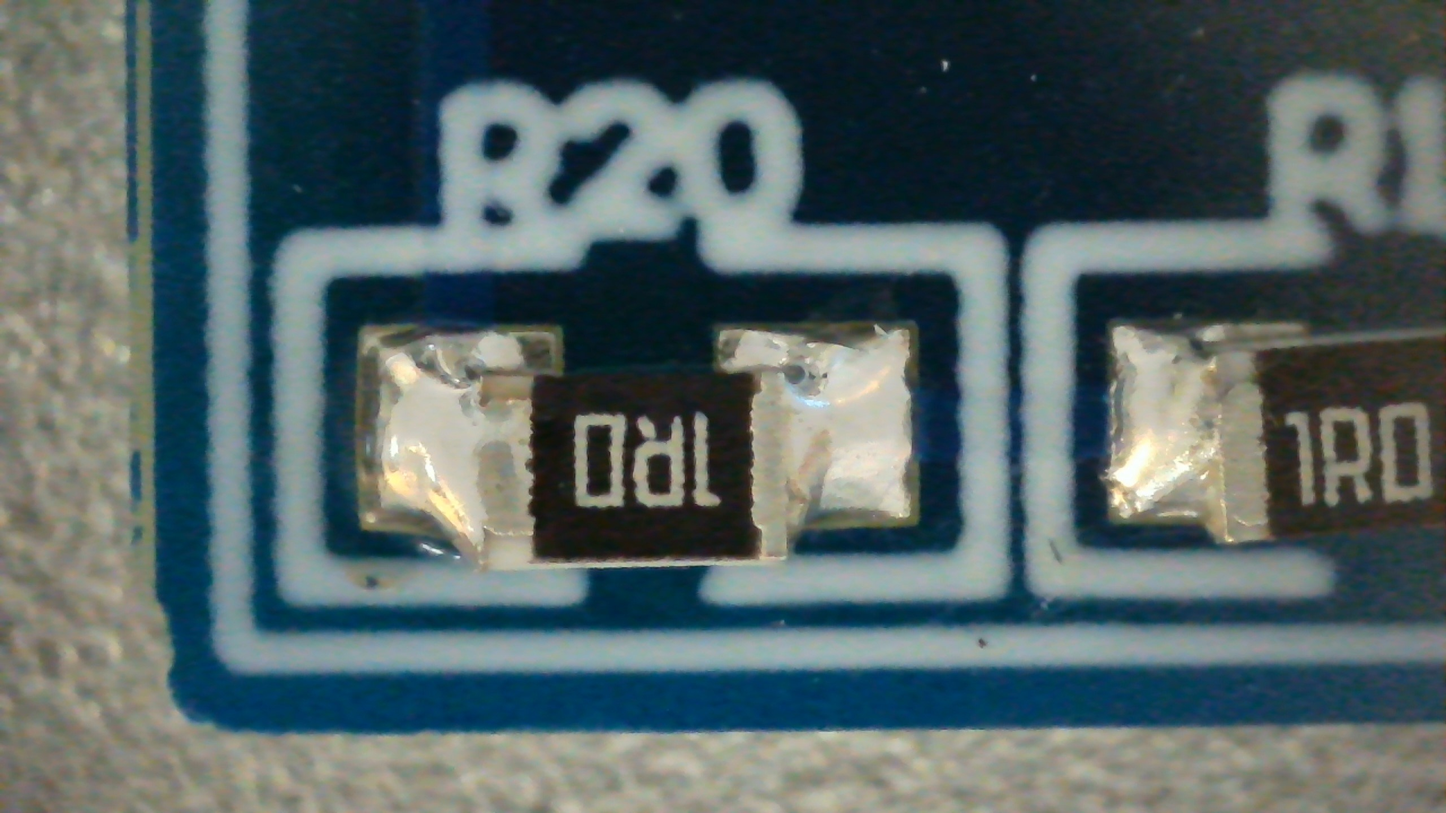NG: (359, 325, 912, 573)
